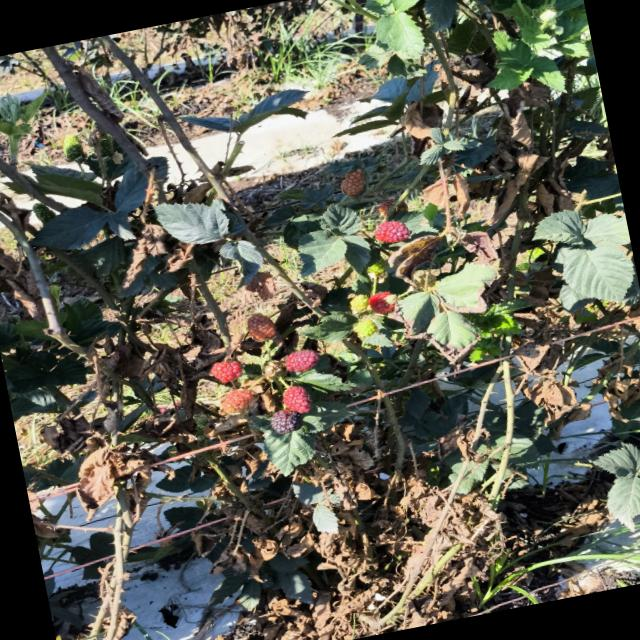maduro: (270, 410, 303, 434)
naranja: (374, 220, 410, 243), (247, 313, 276, 341), (283, 386, 313, 413), (285, 350, 320, 372), (211, 360, 242, 383), (222, 389, 253, 412), (341, 168, 365, 197), (369, 292, 396, 314)
